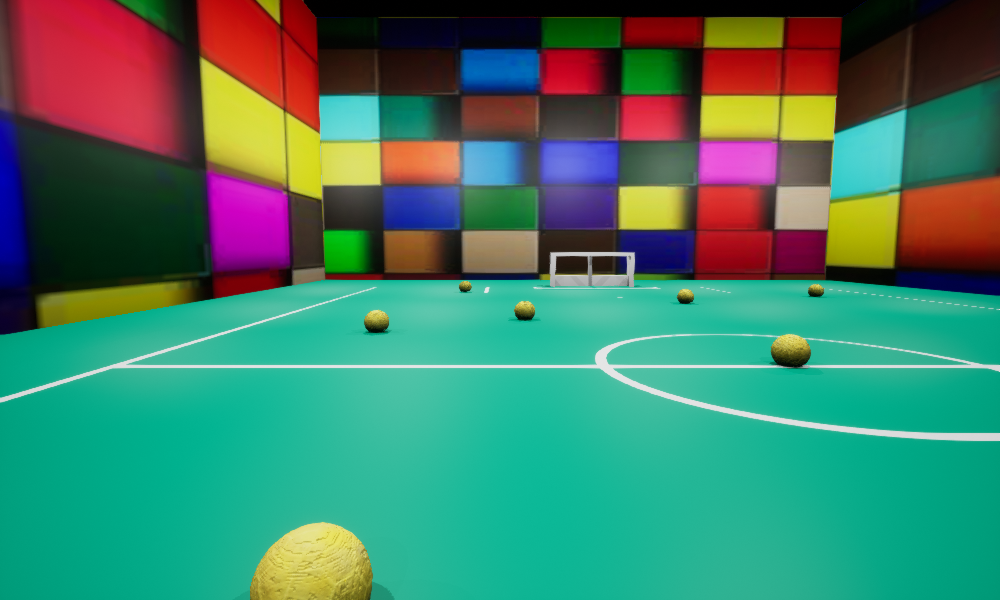b: (250, 522, 372, 599), (771, 334, 810, 365), (364, 310, 388, 332), (514, 301, 534, 319), (677, 289, 693, 303), (808, 284, 823, 296), (459, 281, 471, 291)
g: (550, 252, 634, 286)
